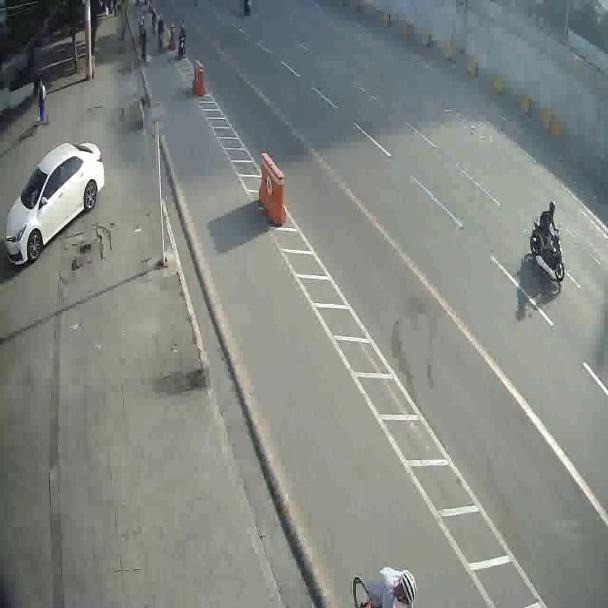motorcyclist: (528, 203, 564, 287)
vehicle: (8, 142, 104, 272)
